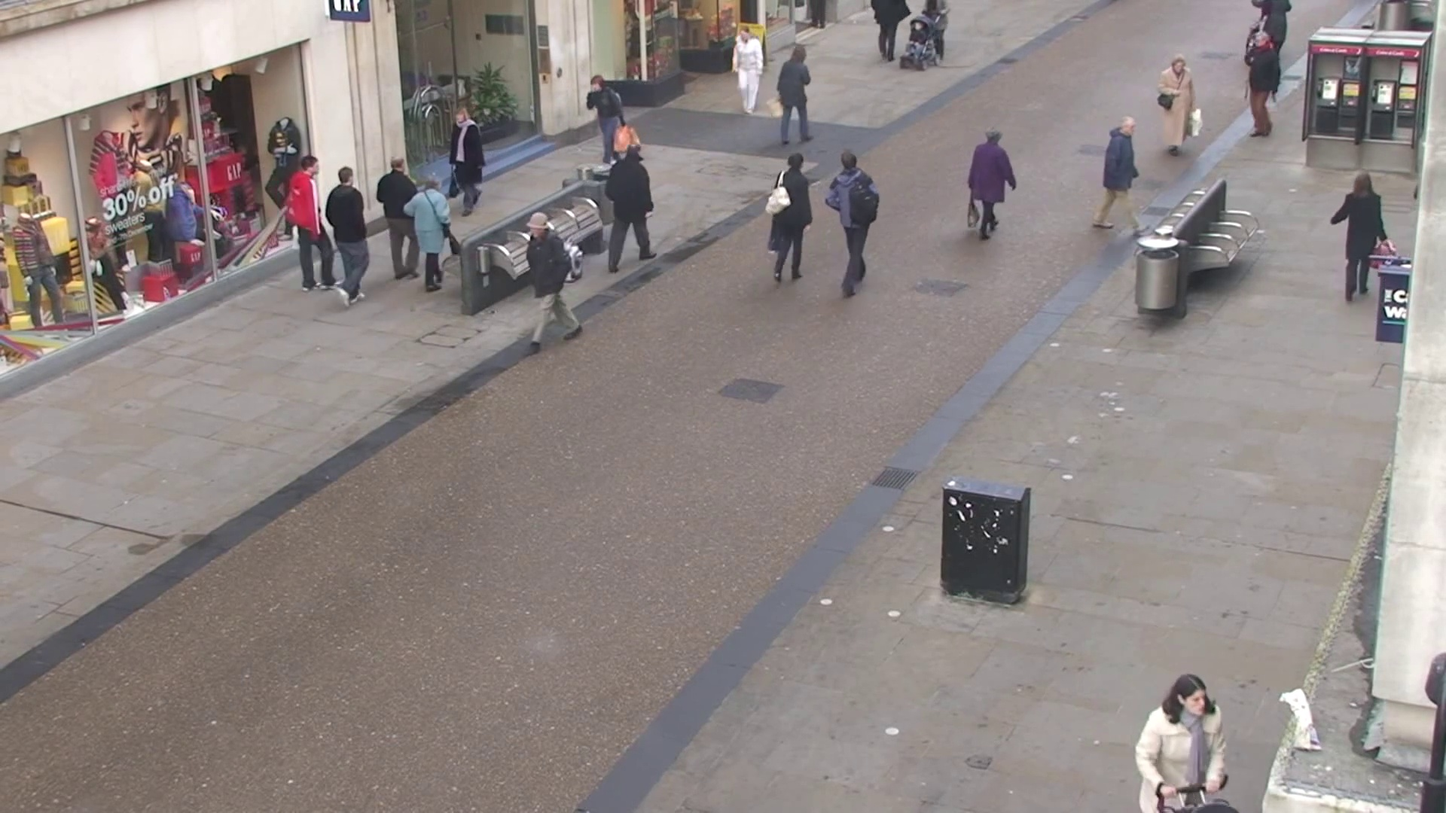person: (1135, 673, 1232, 811), (1216, 6, 1288, 151), (525, 214, 585, 348), (1327, 172, 1389, 301), (826, 151, 880, 299), (1146, 46, 1206, 170), (602, 132, 654, 273), (282, 158, 332, 294), (765, 152, 816, 285), (720, 6, 775, 126), (323, 168, 371, 305), (375, 155, 419, 284), (407, 178, 455, 294), (967, 129, 1017, 239), (1093, 117, 1140, 232), (450, 107, 487, 218), (777, 42, 812, 147)
